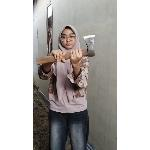Kapak: (34, 32, 98, 68)
